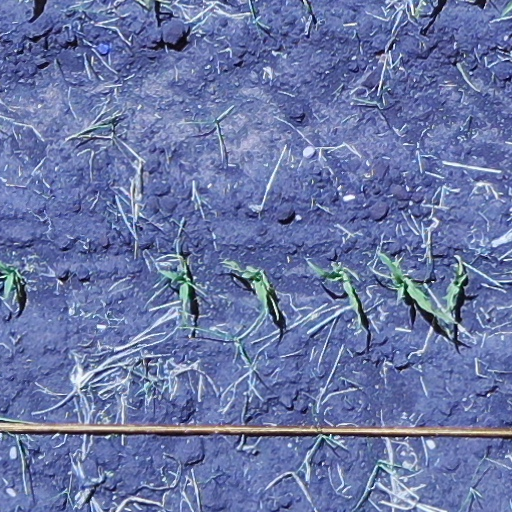planta: (378, 251, 454, 324), (222, 259, 274, 318), (310, 262, 363, 313), (160, 259, 194, 306), (441, 259, 467, 315)
